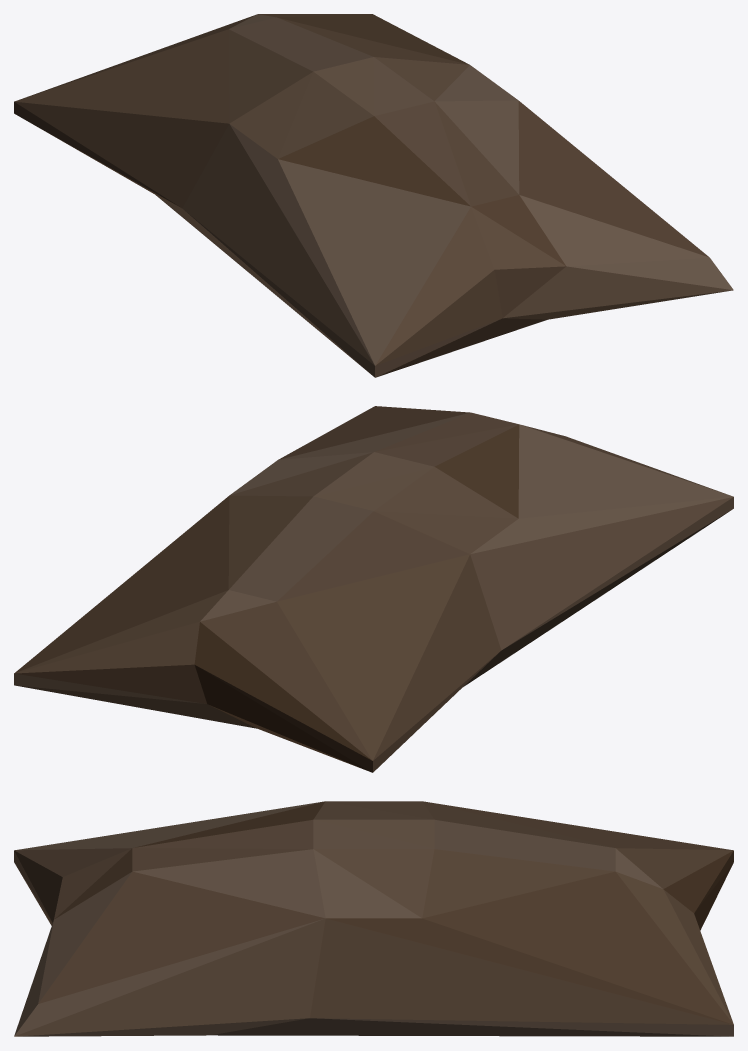
Rendered from Prop_GrainSackA.fbx.
3 views of the same model, one above another, from view 1: azimuth 30°, elevation 25°; view 2: azimuth 150°, elevation 25°; view 3: azimuth 270°, elevation 25° (orthographic).
Parts seen in each view (by area): view 1: Prop_GrainSackA; view 2: Prop_GrainSackA; view 3: Prop_GrainSackA.
Part boxes in pixels (bbox=[...]): Prop_GrainSackA: bbox=[14, 14, 733, 377]; Prop_GrainSackA: bbox=[14, 406, 733, 772]; Prop_GrainSackA: bbox=[14, 801, 733, 1036].
Bounding box in the file's own units: 81.22 × 30.22 × 142.
